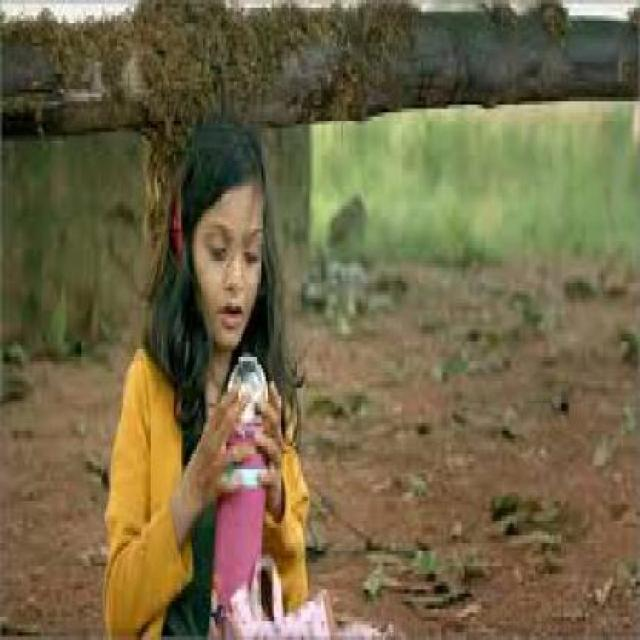Drinking: (222, 345, 271, 613)
